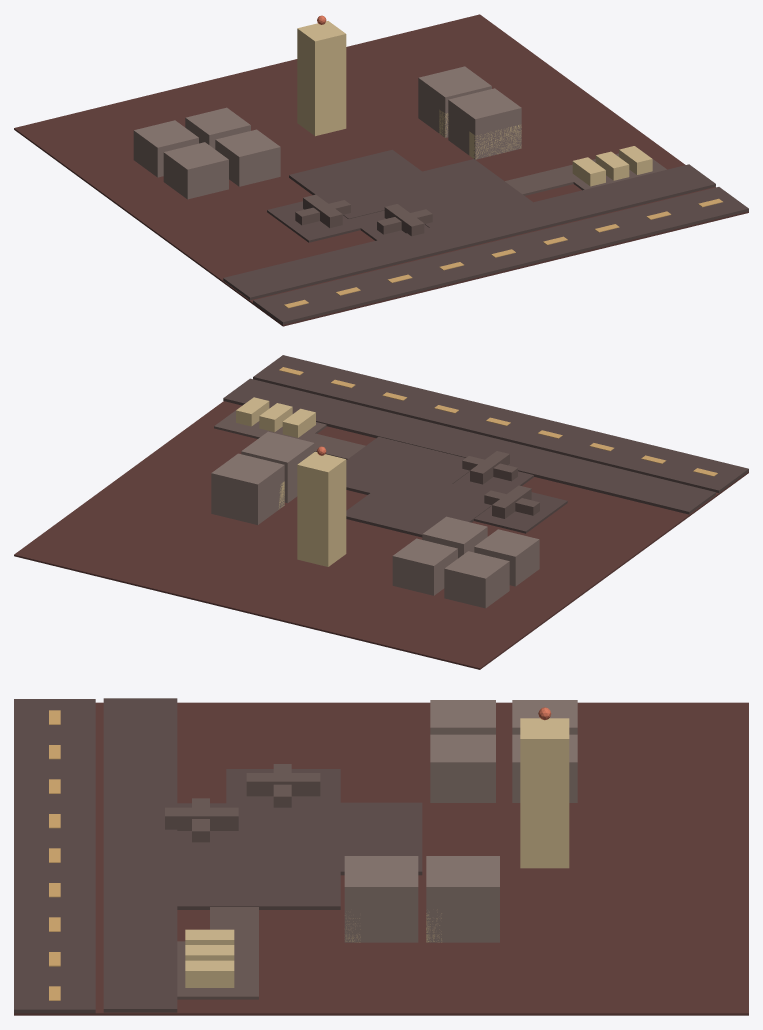
File: stage_14.glb
The picture shows the model from 3 angles, top to bottom: view 1: azimuth 30°, elevation 25°; view 2: azimuth 150°, elevation 25°; view 3: azimuth 270°, elevation 25°; orthographic projection. The views are drawn at different scales.
Visible parts, largest first — view 1: geometry_0; view 2: geometry_0; view 3: geometry_0.
Part boxes in pixels (left/top/right/bottom): geometry_0: left=14, top=14, right=748, bottom=326; geometry_0: left=14, top=355, right=748, bottom=669; geometry_0: left=14, top=698, right=748, bottom=1015.
Size of the model in its own units: 9 by 2.06 by 9.
